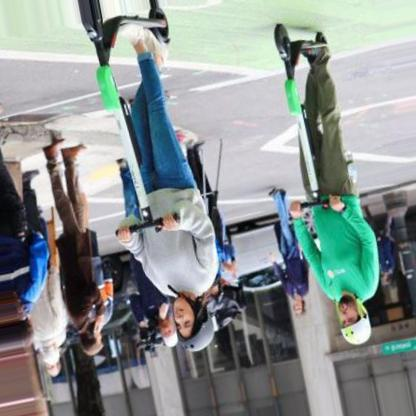scooter: (80, 4, 181, 239), (273, 22, 347, 218)
with helmet: (171, 291, 222, 355), (337, 294, 372, 347)
